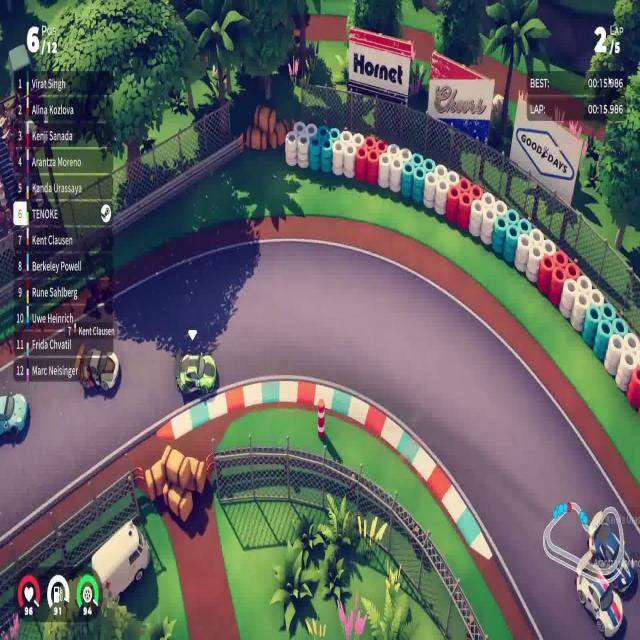car: (588, 506, 637, 592), (576, 552, 626, 636), (73, 339, 120, 392), (176, 351, 217, 396)
